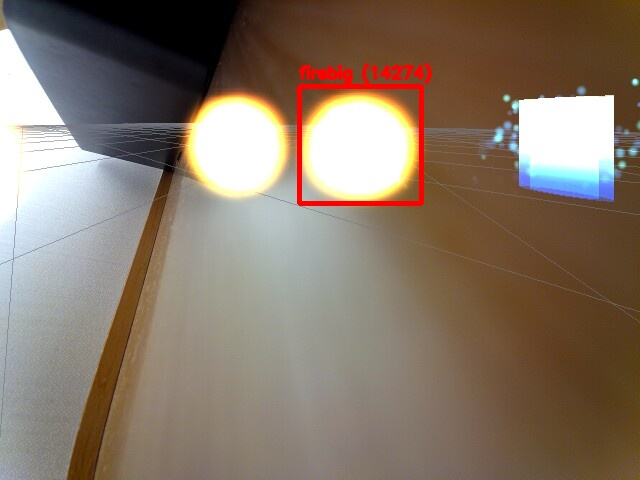firebig: (299, 86, 421, 203)
